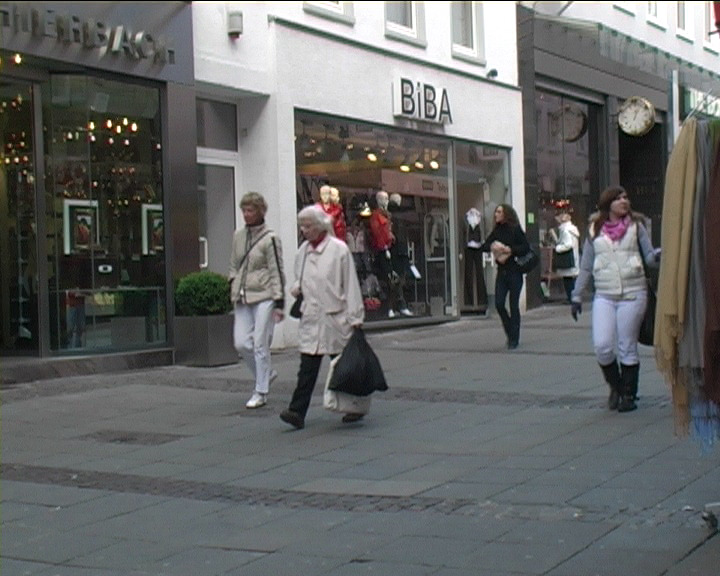undeflect: (290, 208, 351, 278), (232, 189, 281, 250)
